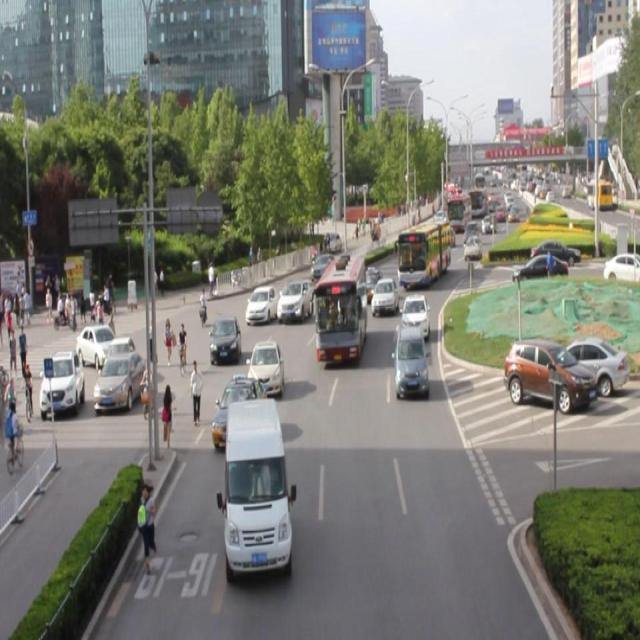car: (212, 377, 268, 447), (395, 324, 428, 397), (247, 340, 283, 395), (211, 313, 242, 363), (278, 279, 311, 321), (245, 285, 278, 323), (402, 293, 428, 341), (372, 278, 398, 316), (360, 264, 381, 303)
truck: (227, 402, 289, 572)
van: (317, 251, 366, 362), (398, 217, 450, 291)
